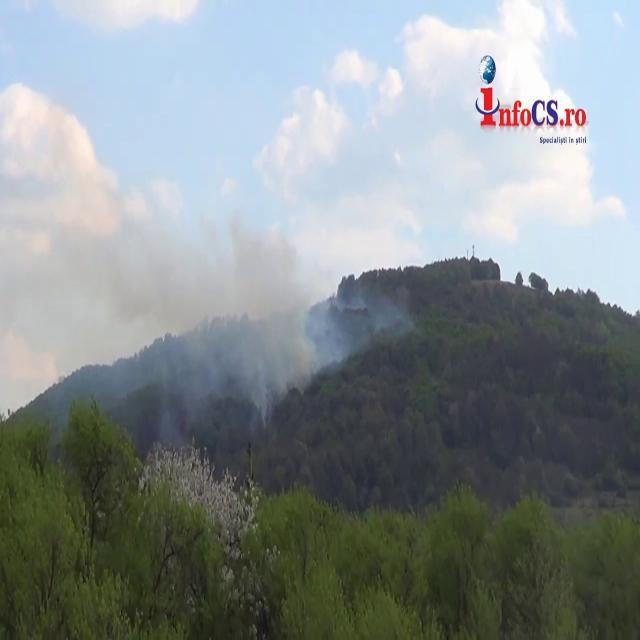Smoke: (172, 176, 322, 422)
